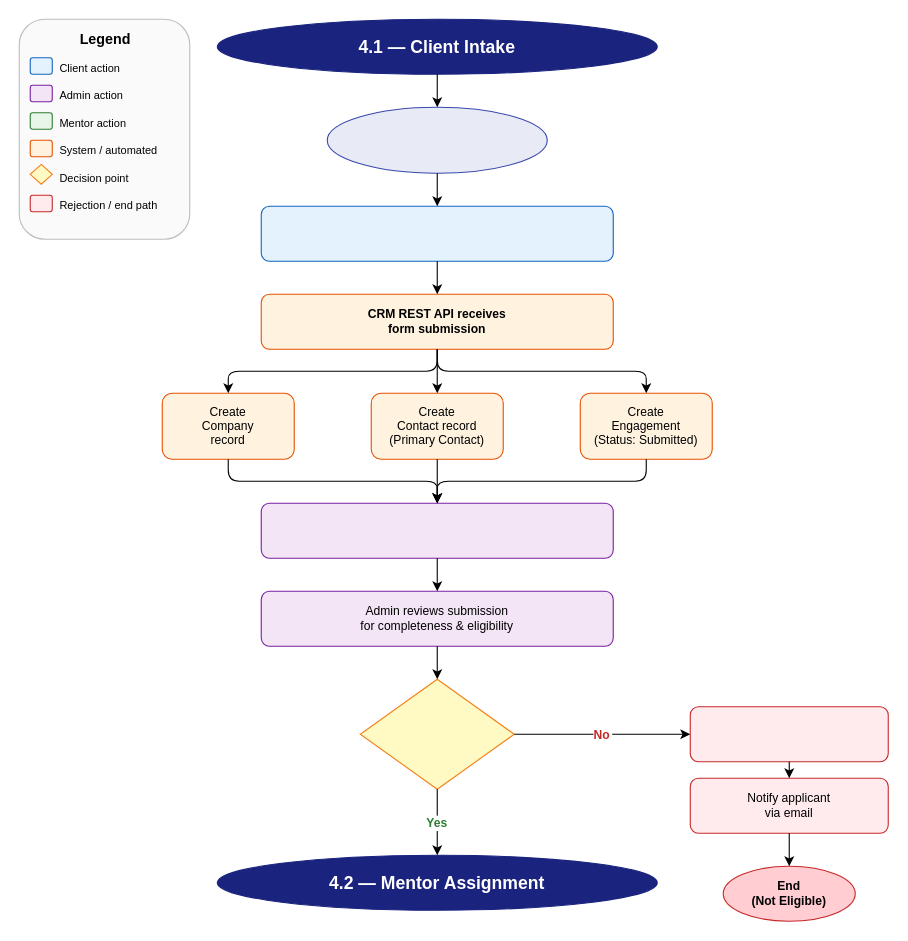
This 908x941 diagram has some shape labels left out. Each missing label, with the centre of its shape:
Admin reviews via "New Client Submissions" preset: point 436,530
Client completes & submits Phase 1 Mentoring Request form: point 436,233
Client visits CBM website: point 436,139
Eligible for program?: point 436,733
Status → Abandoned Close Reason: Other: point 788,734
